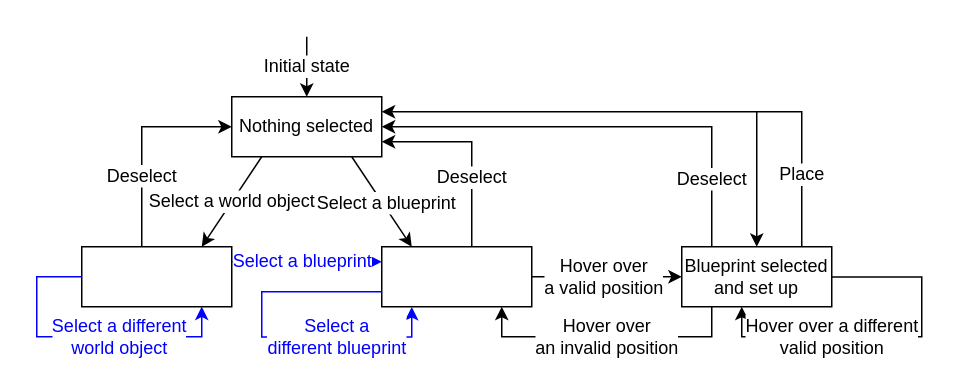
Image size: 960x386. Some labels were removed from this diagram. The box of each missing label's shape, as (x1, y1, x2, y2) in pixels:
Blueprint selected: (380, 245, 532, 307)
World object selected: (80, 245, 232, 307)
